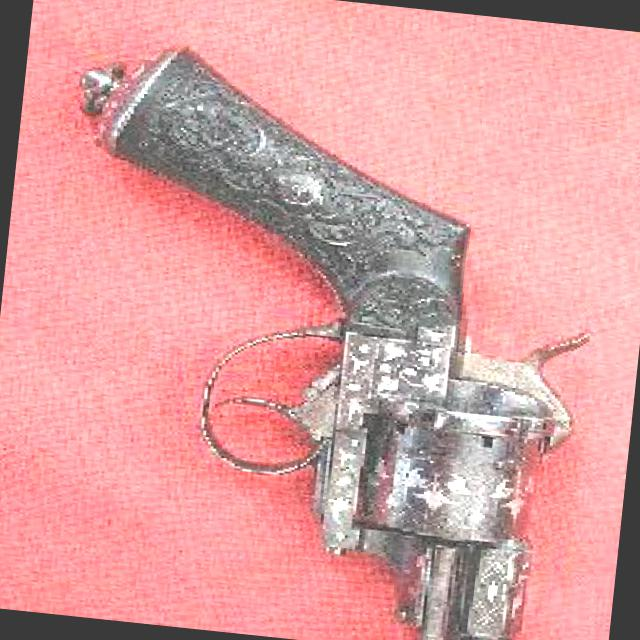handgun: (22, 35, 626, 639)
